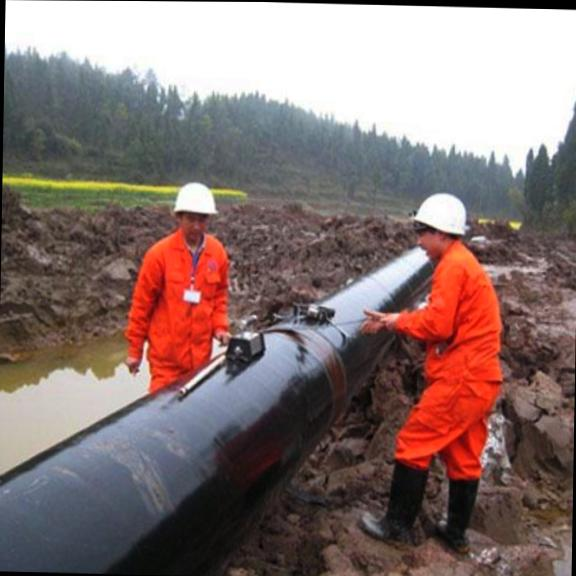no_safety_vest: (122, 235, 237, 376), (395, 248, 508, 387)
